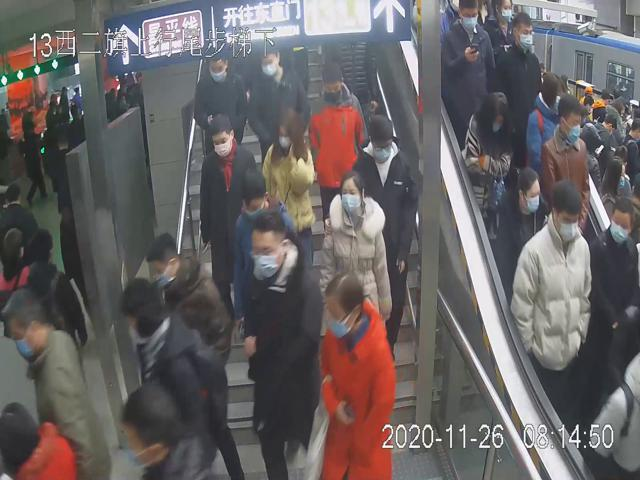person: (245, 211, 321, 477), (310, 273, 396, 480), (506, 177, 592, 384), (351, 113, 419, 364), (316, 171, 393, 369), (198, 115, 259, 337), (232, 171, 303, 339), (308, 60, 365, 236), (261, 105, 317, 272), (249, 40, 310, 173), (193, 50, 248, 187), (542, 93, 593, 230), (443, 1, 495, 128), (495, 166, 549, 282), (501, 10, 541, 128)
